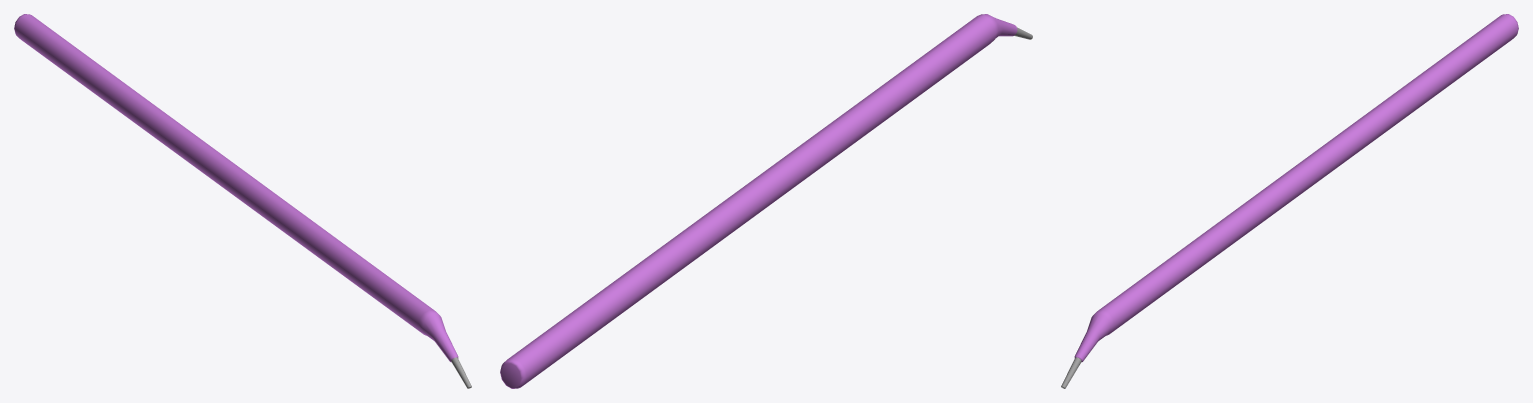
The model's file is etsareBondingTool.fbx.
3 renders of one model, left to right at view 1: azimuth 30°, elevation 25°; view 2: azimuth 150°, elevation 25°; view 3: azimuth 330°, elevation 25°, orthographic. The views are drawn at different scales.
Parts seen in each view (by area): view 1: DM_etsareBondingTool; view 2: DM_etsareBondingTool; view 3: DM_etsareBondingTool.
Boxes of the visible parts, x1=… form: DM_etsareBondingTool: x1=14, y1=14, x2=471, y2=388; DM_etsareBondingTool: x1=500, y1=14, x2=1032, y2=388; DM_etsareBondingTool: x1=1061, y1=14, x2=1518, y2=388.
Size of the model in its own units: 0.1546 by 0.3363 by 5.44.
